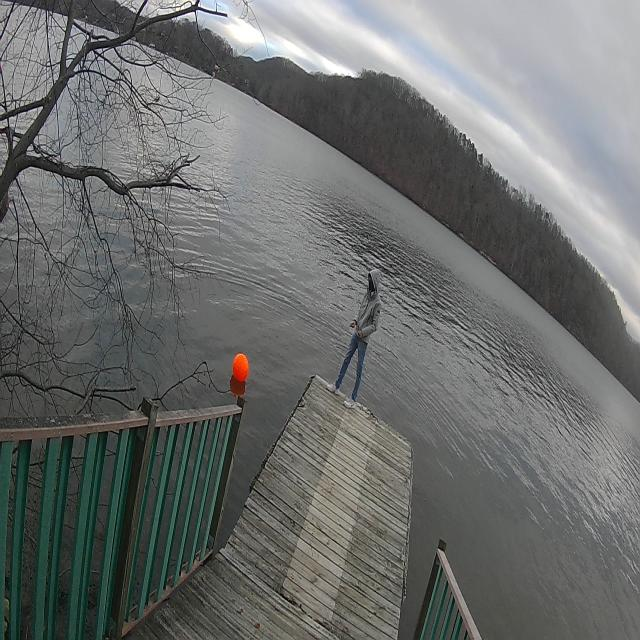Buoy: (227, 342, 253, 393)
